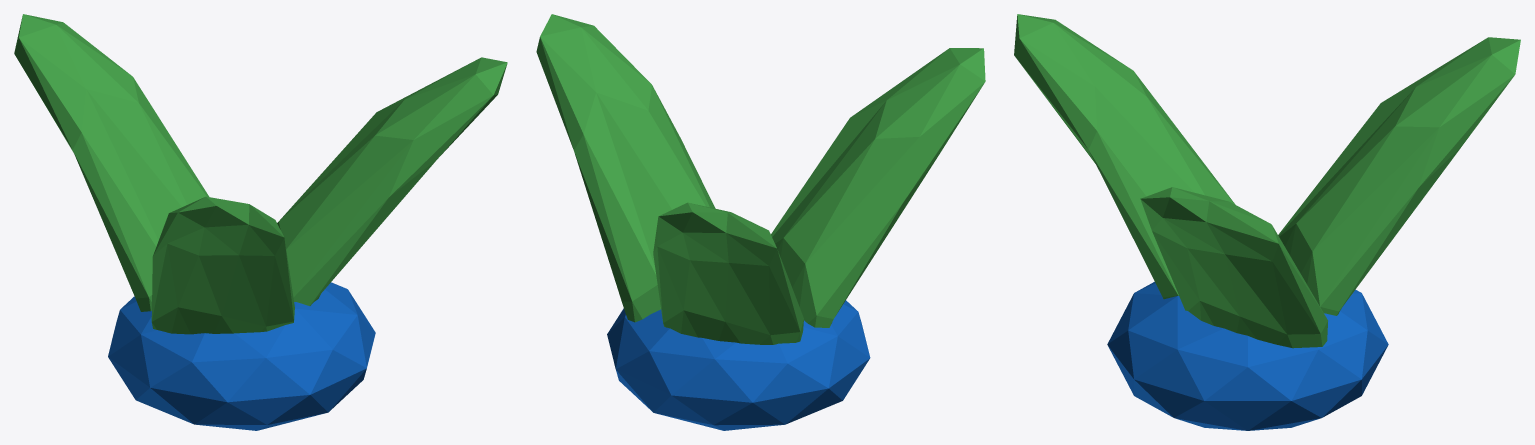
File: fantasy_plant_070.fbx
3 renders of one model, left to right at view 1: azimuth 30°, elevation 25°; view 2: azimuth 150°, elevation 25°; view 3: azimuth 270°, elevation 25°, orthographic. The views are drawn at different scales.
Parts seen in each view (by area): view 1: fantasy_plant.070; view 2: fantasy_plant.070; view 3: fantasy_plant.070.
Part boxes in pixels (<box>): fantasy_plant.070: <box>14,14,507,430</box>; fantasy_plant.070: <box>536,14,985,430</box>; fantasy_plant.070: <box>1014,14,1520,430</box>.
Bounding box in the file's own units: 444 × 353 × 492.
1 material, 1 textured.
